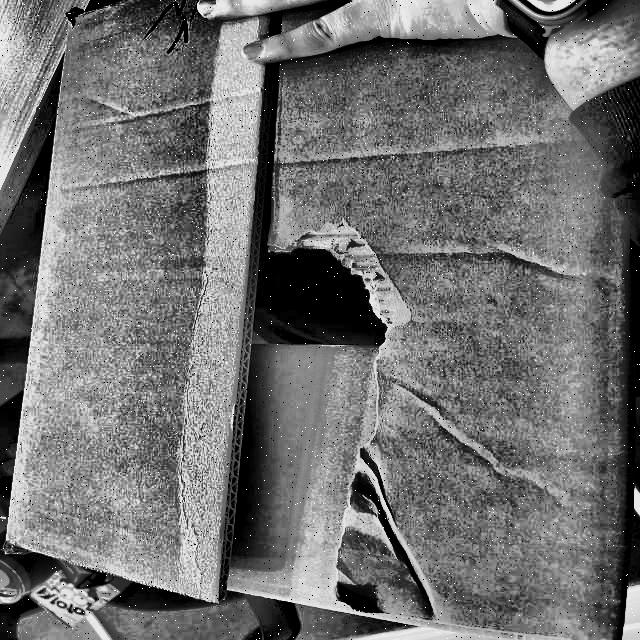box: (3, 1, 640, 640)
hole: (256, 230, 394, 367)
